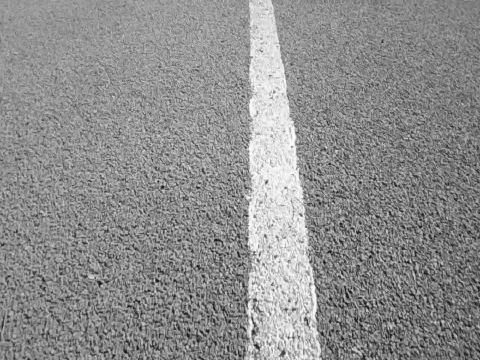Lines: (246, 0, 322, 360)
